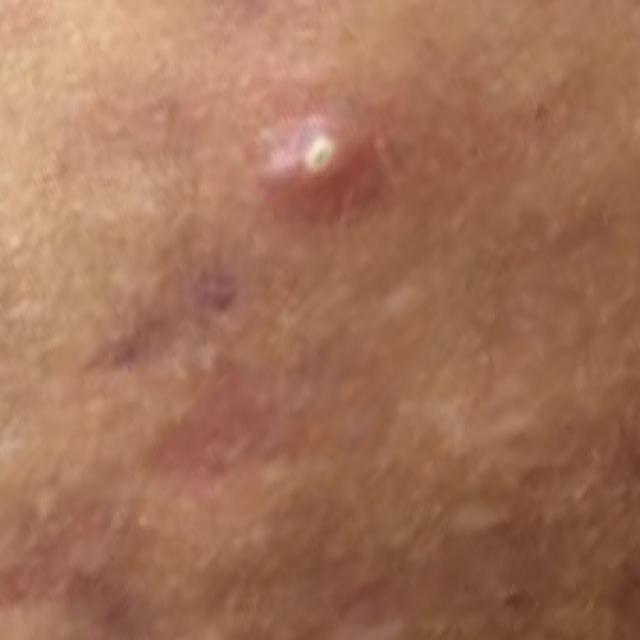acne: (211, 79, 403, 209), (124, 248, 262, 358)
